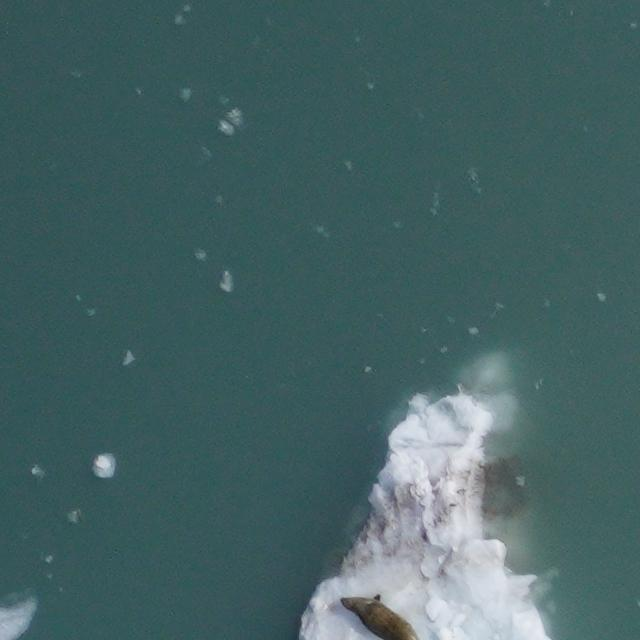seal: (338, 589, 426, 640)
